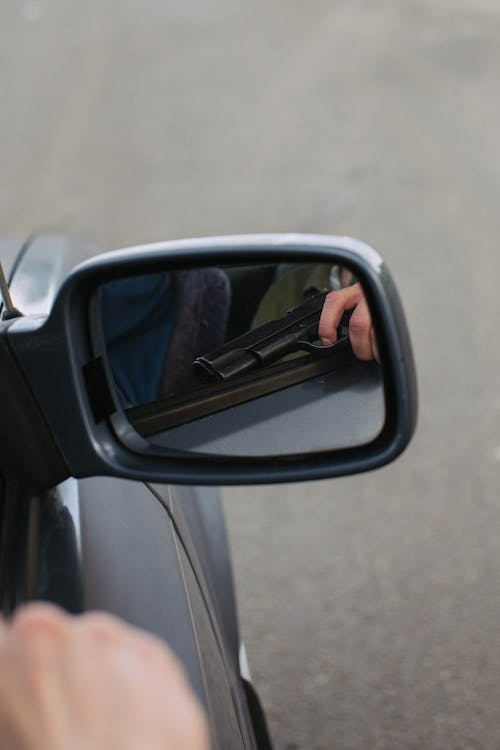gun: (186, 282, 358, 388)
